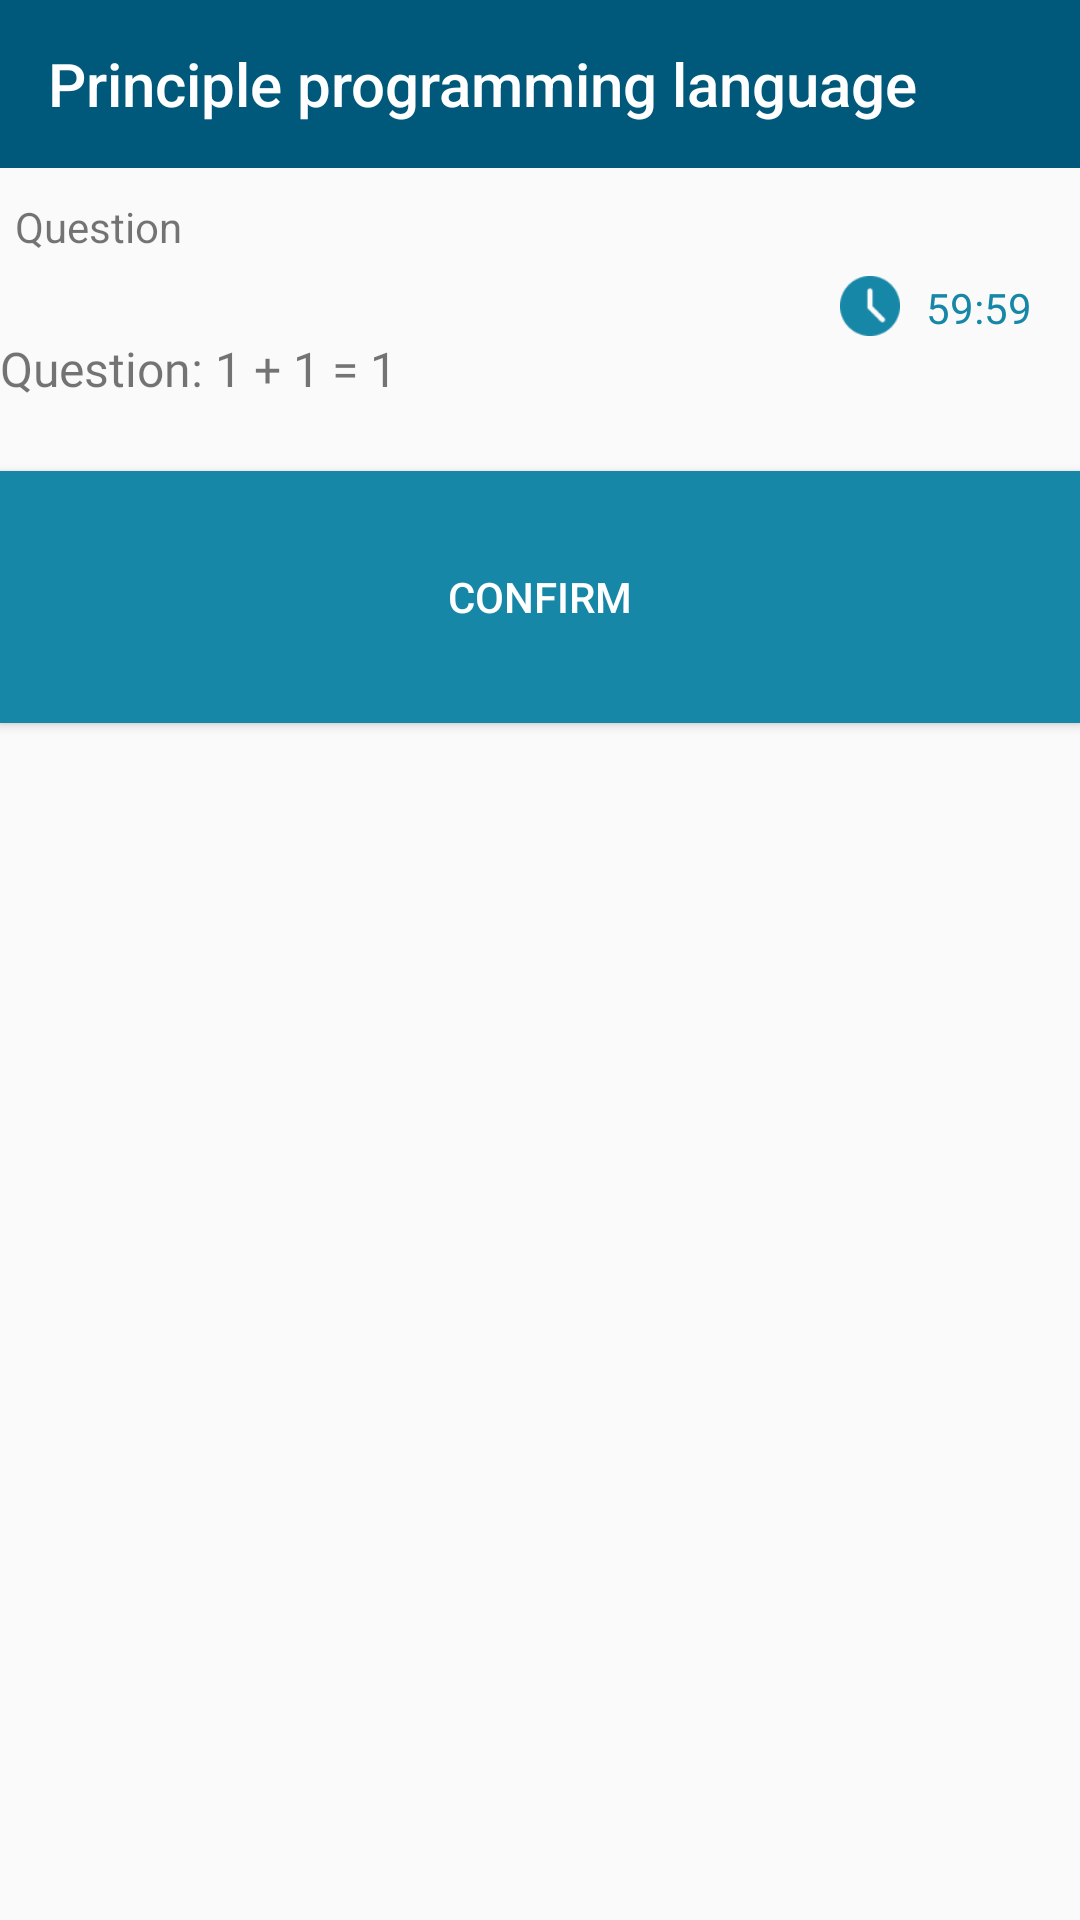

Where icons sit on this 1080×1920 app screen, as (x1, y1, x2, y2):
tungclock: (840, 276, 900, 336)
